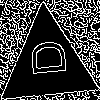D: (22, 38, 66, 78)
